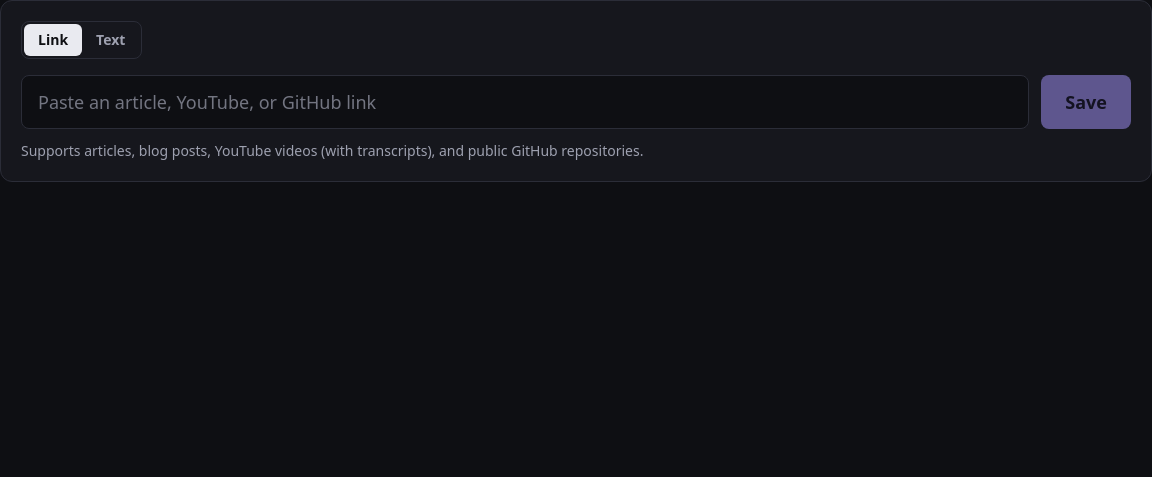
Test: saving pasted text › clears old messages when switching between link and text
Type "https://example.com/a" into the field named "Link to save" at (525, 102), box x1=21 y1=75 x2=1029 y2=129
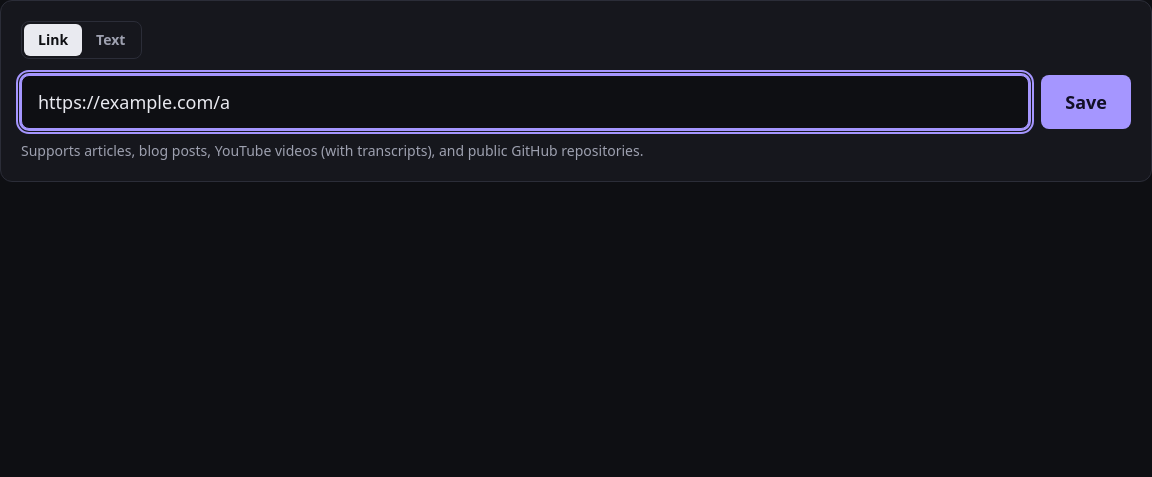
Click the button "Save" at (1086, 102), box x1=1041 y1=75 x2=1131 y2=129
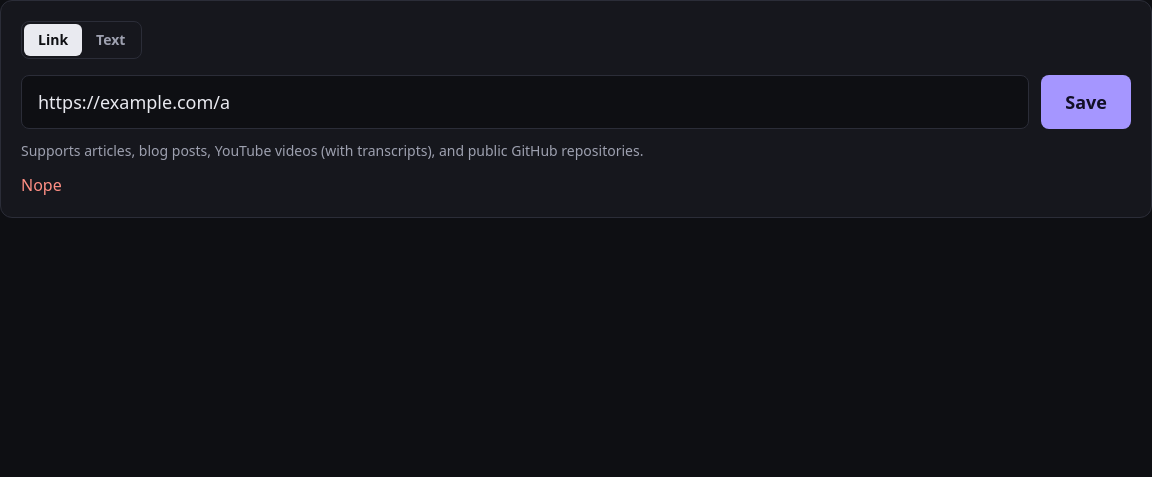
Now the message "Nope" is shown, box x1=21 y1=174 x2=62 y2=196
Click the button "Text" at (111, 40), box x1=82 y1=24 x2=139 y2=56
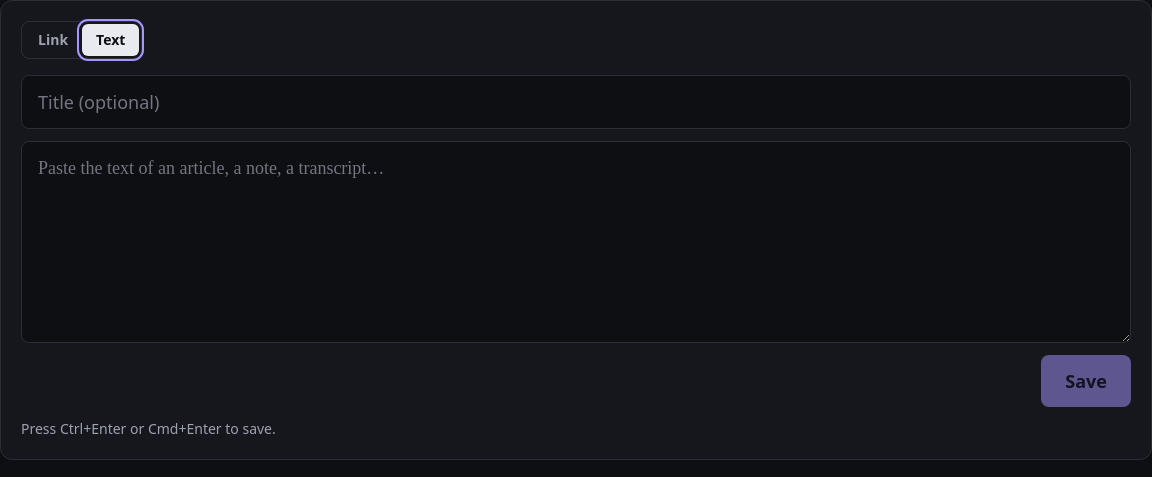
Now the message "Nope" is gone
